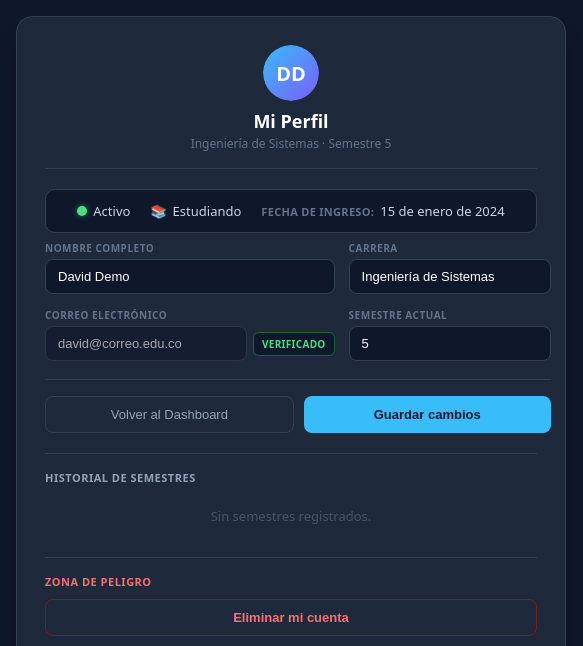
Test: Integración - Perfil › muestra el mensaje de error cuando la API rechaza la actualizacion
Expected: the text "Sin semestres registrados." is shown, x1=211 y1=507 x2=371 y2=525
Click the button "Guardar cambios".
click(427, 414)  # box x1=304 y1=396 x2=551 y2=433
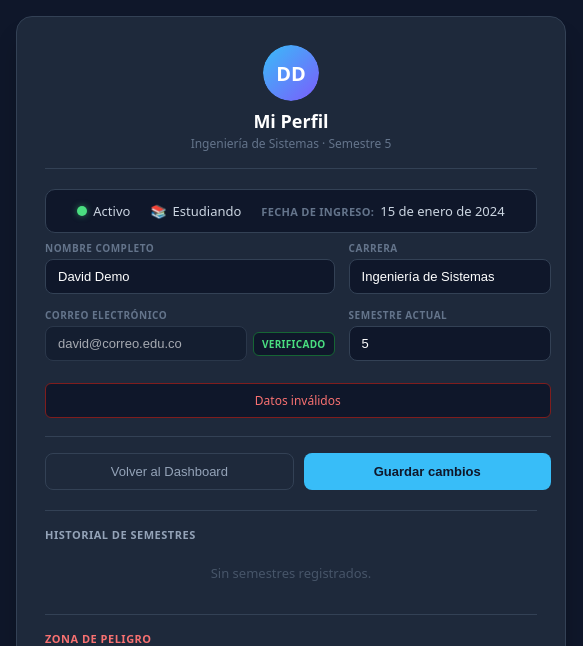
Expected: the text "Datos inválidos" is shown, x1=45 y1=383 x2=551 y2=418
